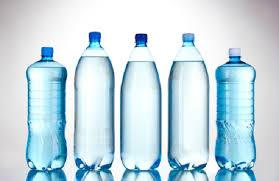Plastic bottle: (72, 29, 118, 174), (212, 45, 262, 177), (21, 46, 70, 174), (166, 30, 209, 175), (120, 32, 163, 176)
